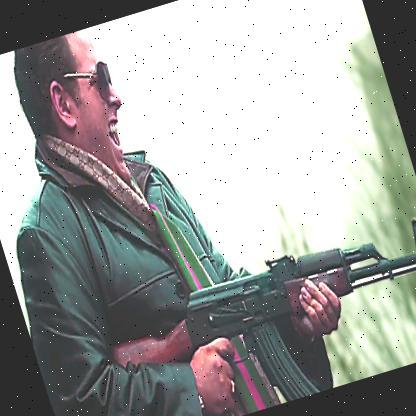rifle: (91, 200, 416, 416)
